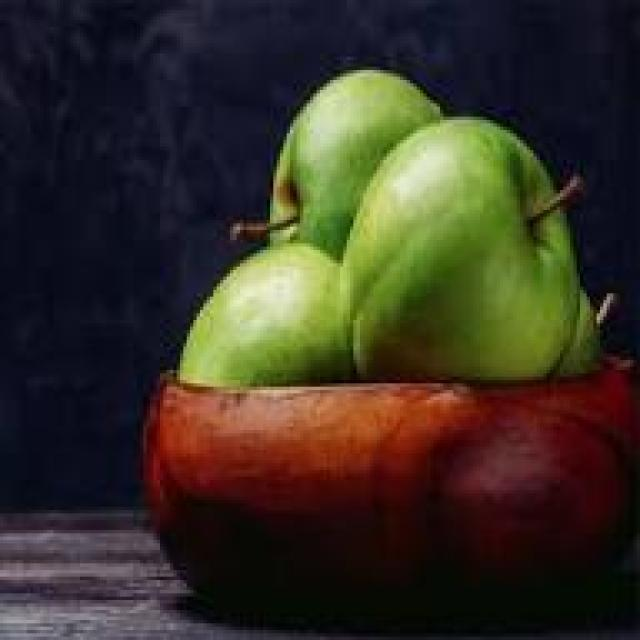apple: (357, 143, 583, 400), (253, 67, 447, 260), (180, 237, 347, 400)
